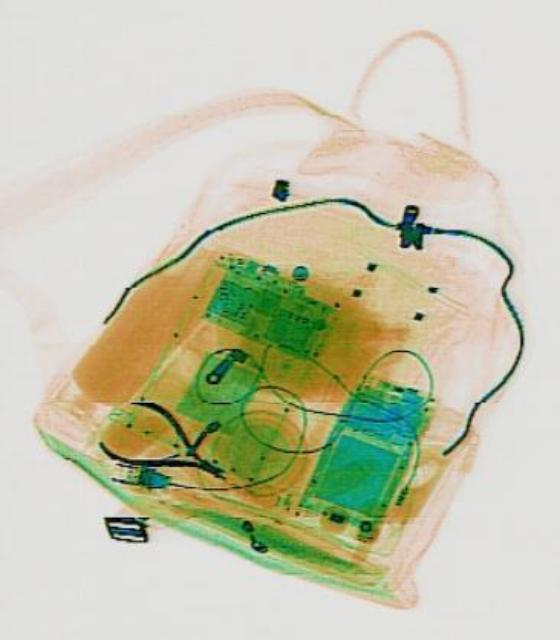Pliers: (92, 385, 237, 505)
